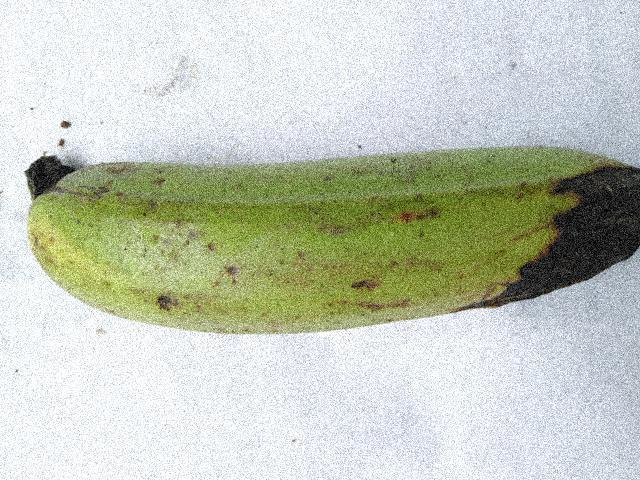rotten: (476, 147, 639, 320)
unripe: (0, 96, 506, 342)
